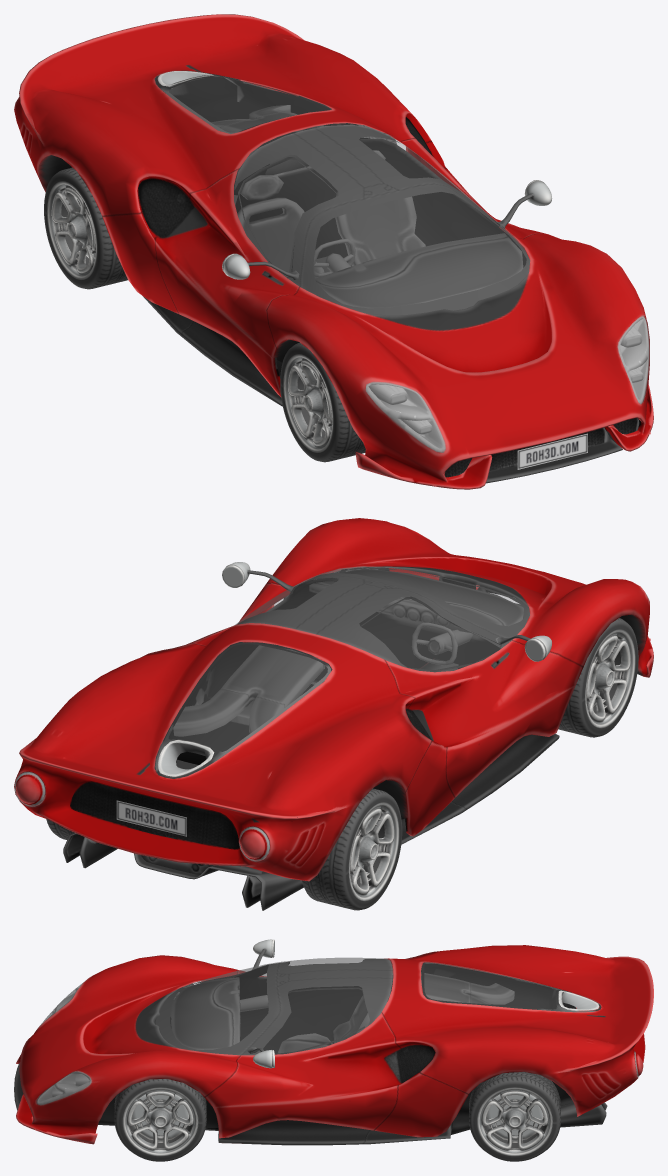
Rendered from low_poly_car_-_de_tomaso_p72_2020.glb.
3 renders of one model, top to bottom at view 1: azimuth 30°, elevation 25°; view 2: azimuth 150°, elevation 25°; view 3: azimuth 270°, elevation 25°, orthographic. The views are drawn at different scales.
Visible parts, largest first — view 1: Object_4, Object_2, Object_3; view 2: Object_4, Object_2, Object_3; view 3: Object_4, Object_2, Object_3.
Boxes of the visible parts, <box> form: Object_4: <box>14,14,651,486</box>; Object_2: <box>38,70,649,482</box>; Object_3: <box>45,71,653,489</box>; Object_4: <box>14,518,651,910</box>; Object_2: <box>14,566,649,910</box>; Object_3: <box>14,558,653,910</box>; Object_4: <box>14,939,653,1160</box>; Object_2: <box>23,957,638,1149</box>; Object_3: <box>14,939,645,1161</box>.
Size of the model in its own units: 2075 by 1108 by 4739.
1 material, 1 textured.
